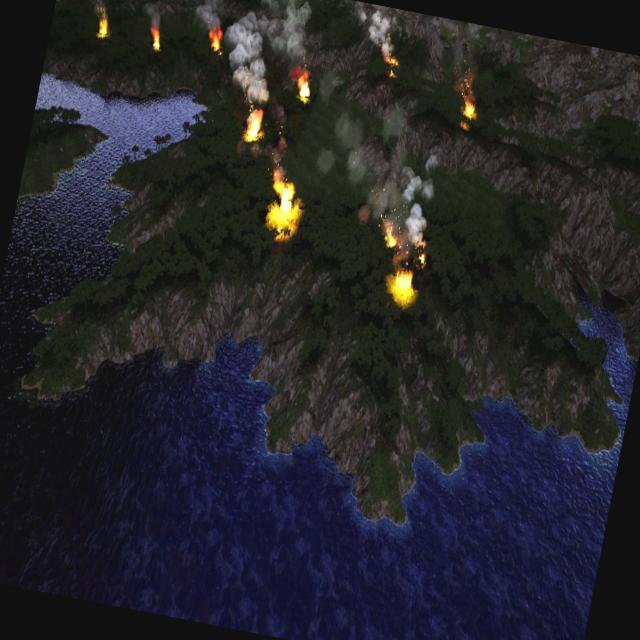fire: (265, 172, 307, 236), (390, 267, 418, 305), (242, 108, 266, 146), (378, 220, 402, 255), (290, 68, 314, 102), (380, 53, 402, 82), (207, 28, 226, 56), (148, 27, 164, 52), (96, 15, 110, 39), (416, 250, 430, 272), (461, 105, 478, 123)
smoke: (306, 90, 454, 248), (214, 0, 319, 114), (364, 5, 398, 58)
